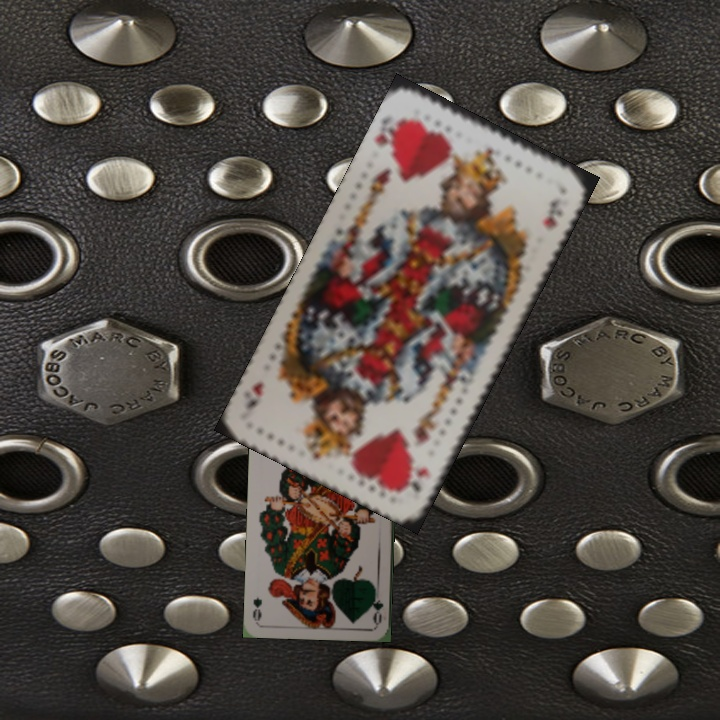GO: (368, 585, 386, 625)
HK: (399, 464, 433, 503), (370, 125, 397, 158)
